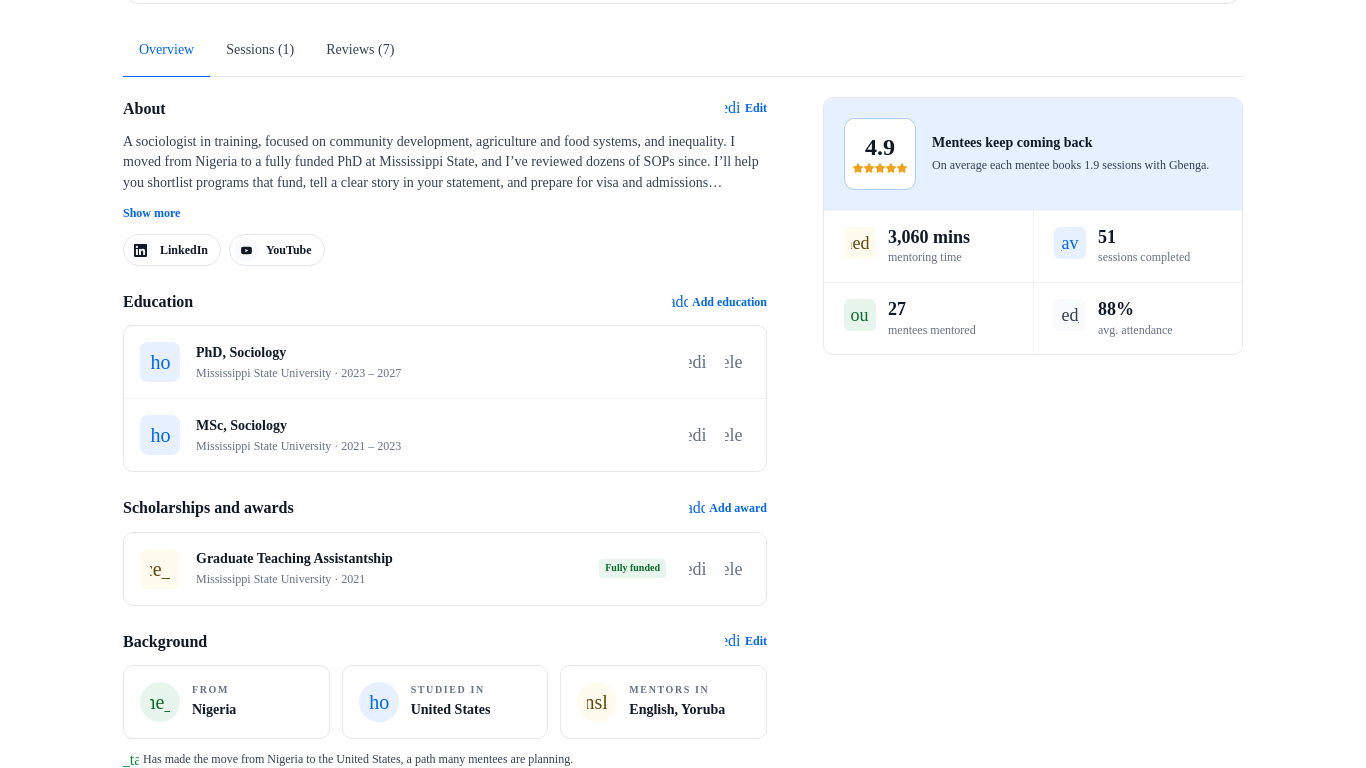
Test: MentorProfileScreen — education › Delete on the row asks first, then says so and moves focus to "Add education"
(page scrolled)
Click the button with aria-label "Delete MSc, Sociology" at (734, 435), box 718,419 -> 750,451
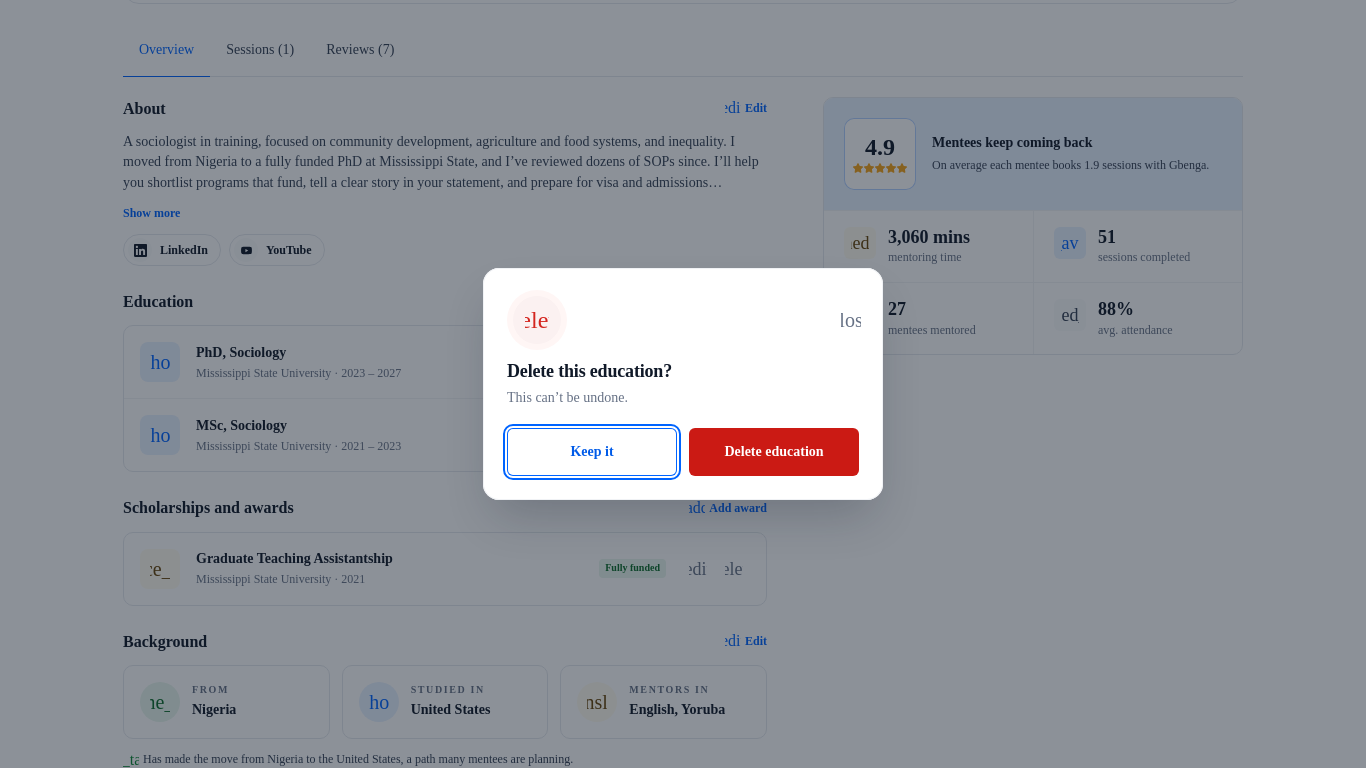
Click the button "Keep it" at (592, 452), box 507,428 -> 677,476
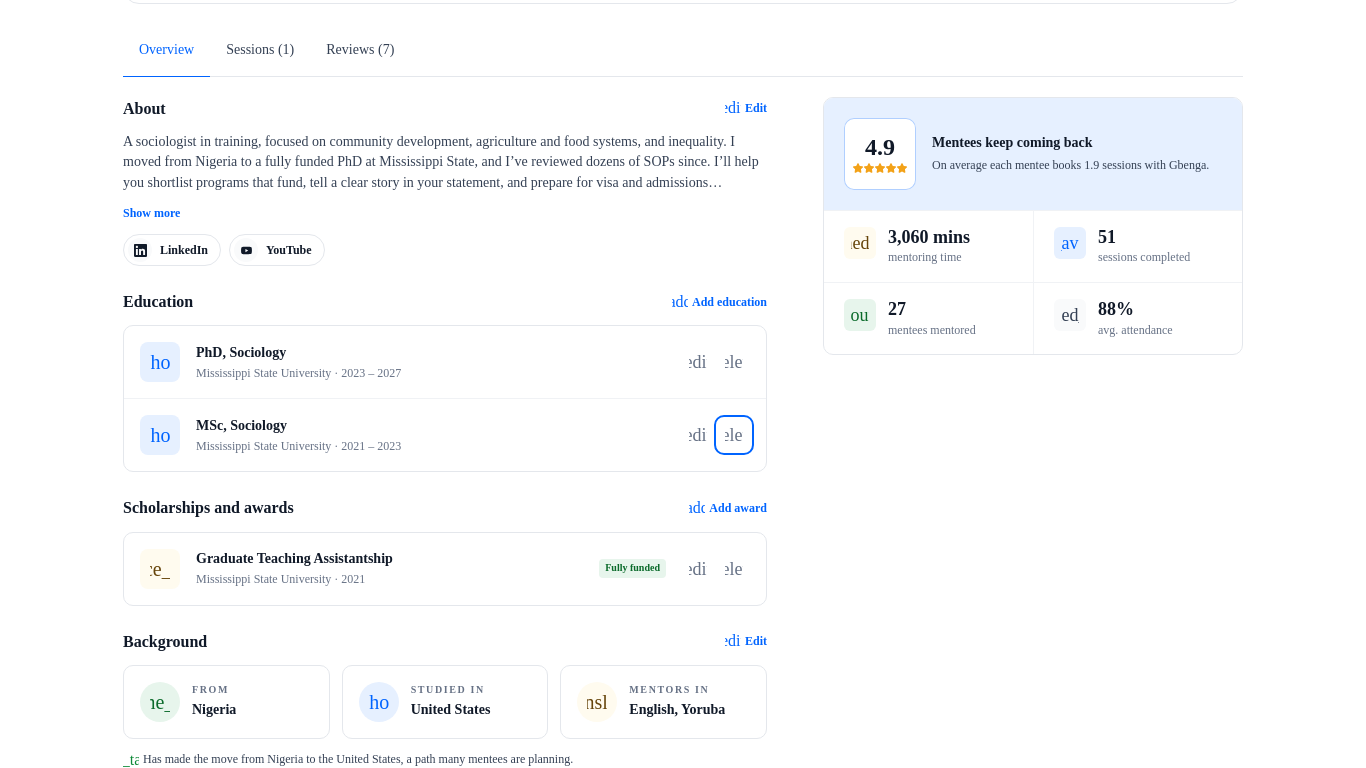
Result: the dialog is gone
Click the button with aria-label "Delete MSc, Sociology" at (734, 435), box 718,419 -> 750,451
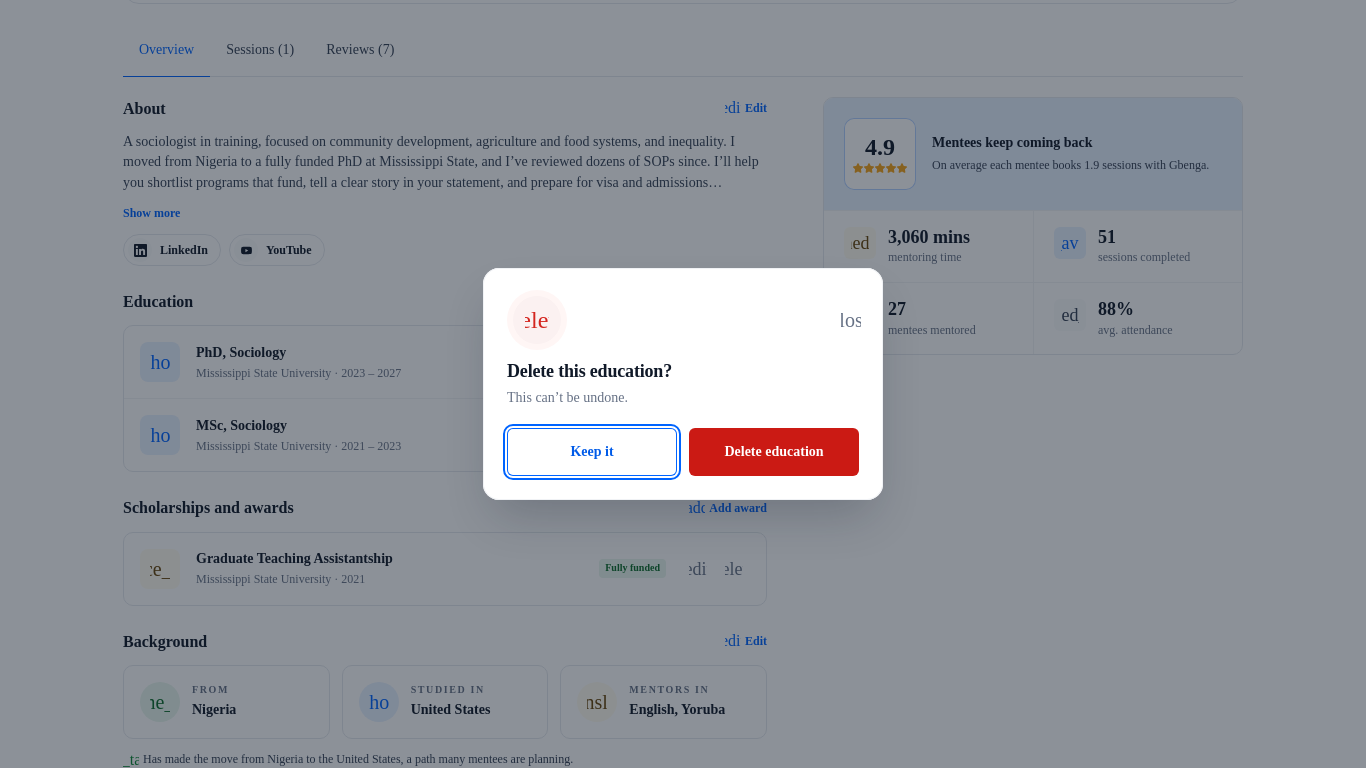
Click the button "Delete education" at (774, 452), box 689,428 -> 859,476
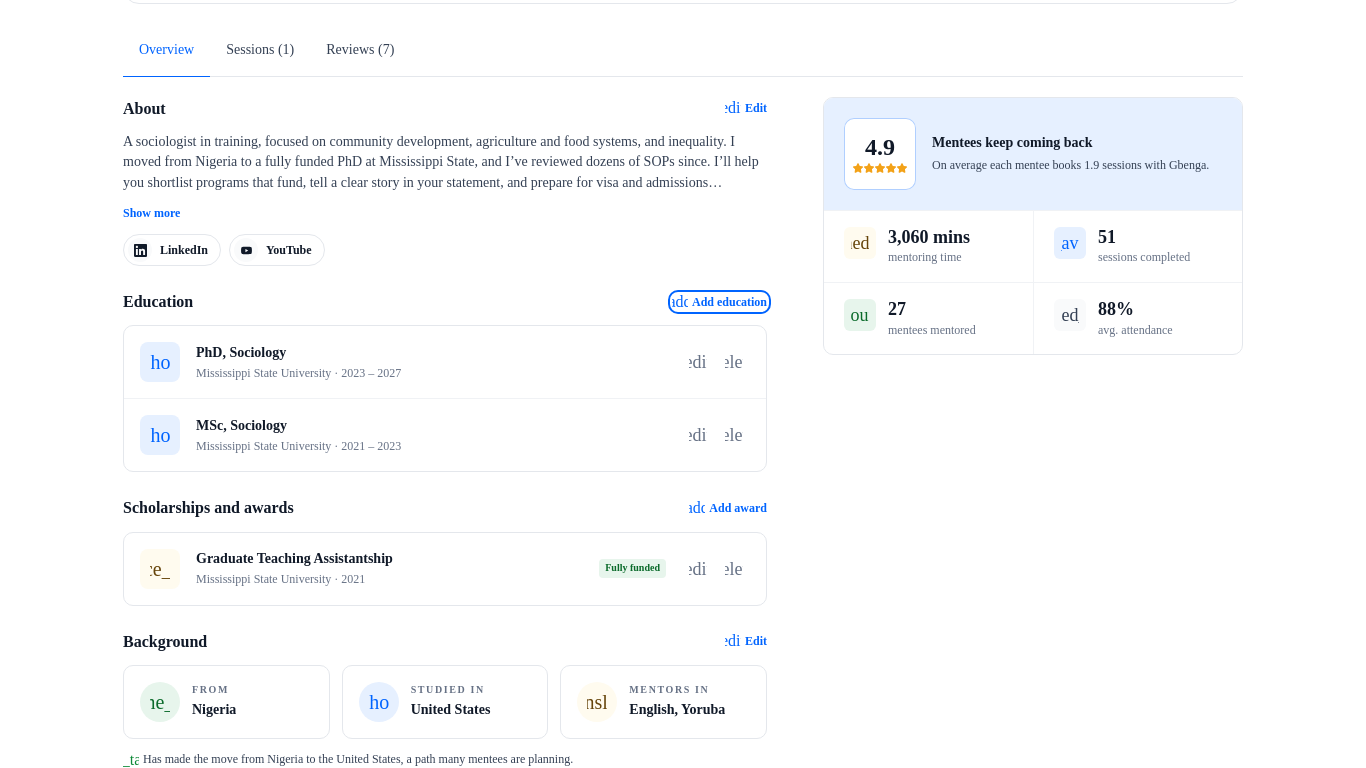
Result: the dialog is gone
